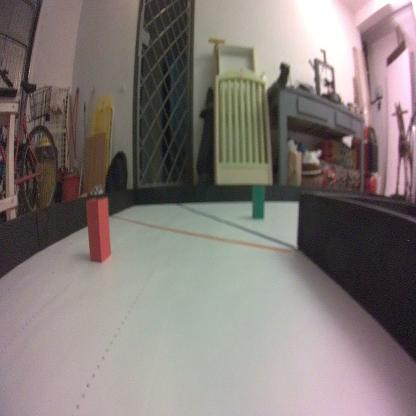green: (251, 184, 266, 220)
red: (86, 198, 112, 263)
